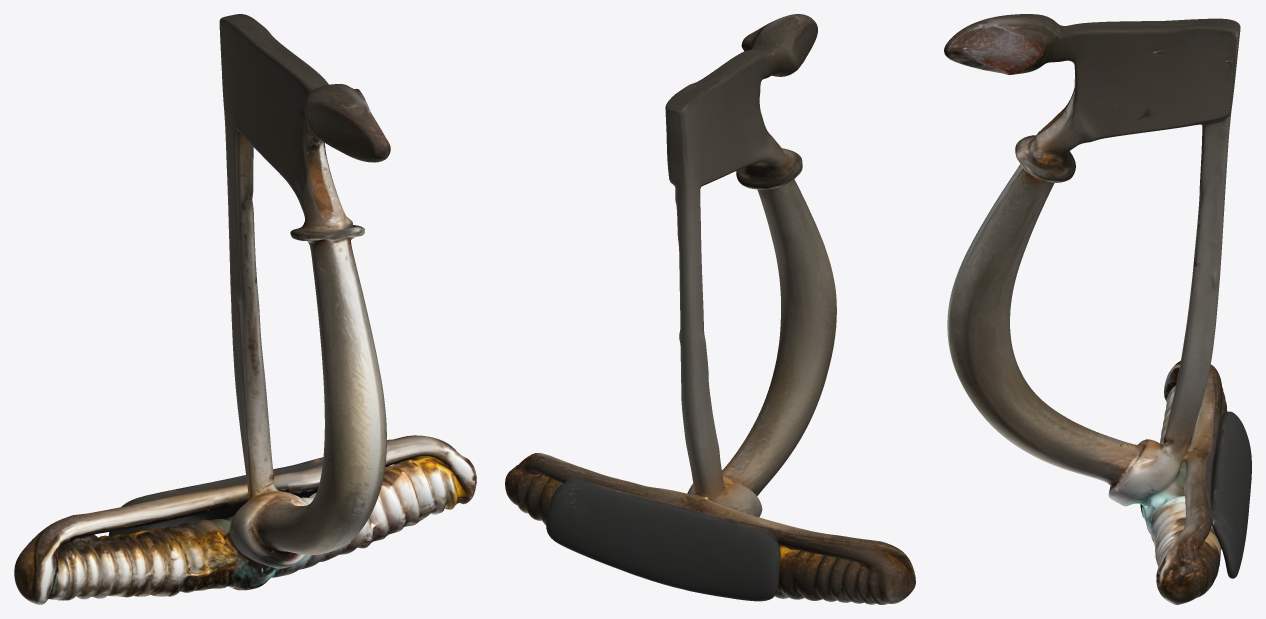
File: 024-bronzovaya-fibula-v-forme-pticy.glb
3 views of the same model, side by side, from view 1: azimuth 30°, elevation 25°; view 2: azimuth 150°, elevation 25°; view 3: azimuth 270°, elevation 25° (orthographic). The views are drawn at different scales.
Visible parts, largest first — view 1: node_0; view 2: node_0; view 3: node_0.
Part boxes in pixels (x1=…): node_0: x1=14, y1=14, x2=476, y2=604; node_0: x1=505, y1=14, x2=915, y2=604; node_0: x1=944, y1=14, x2=1251, y2=604.
Bounding box in the file's own units: 0.8058 × 0.9538 × 0.5098.
Materials: 1 (1 with a texture image).
